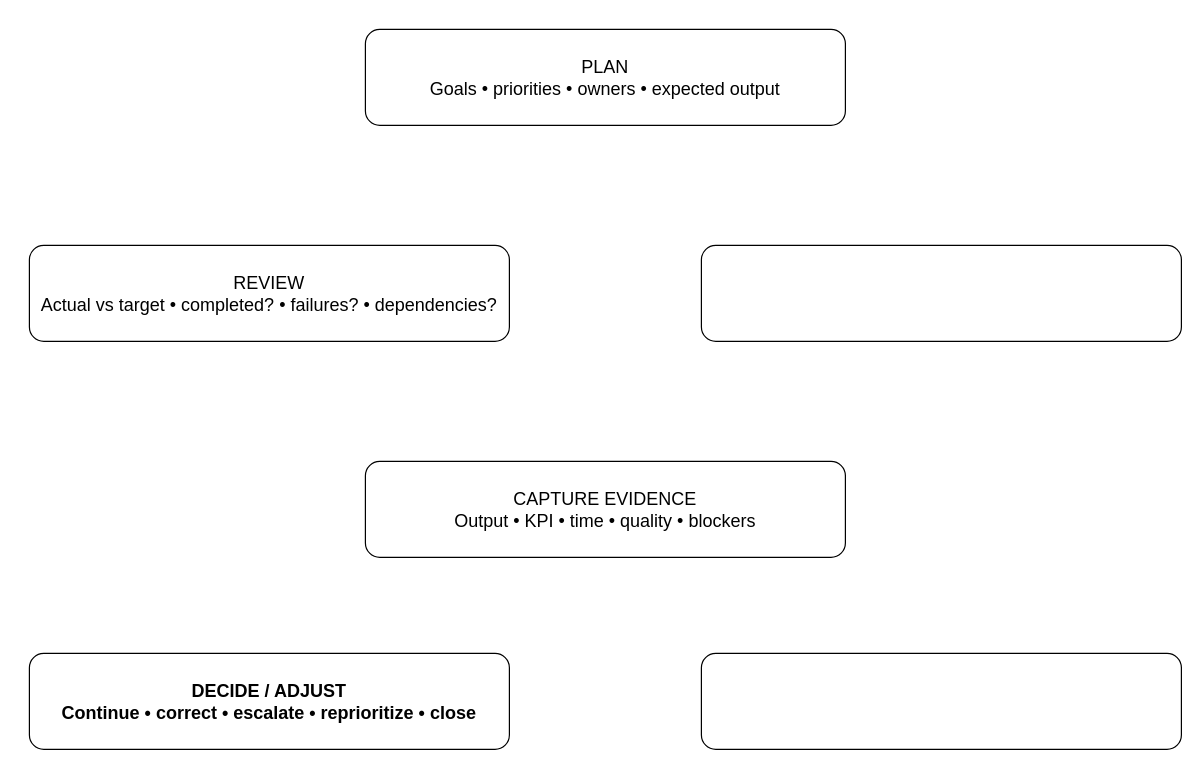
This 1202x770 diagram has some shape labels left out. The centre of each missing label's shape, as x and y in pixels:
"EXECUTE Tasks • projects • recurring work" goes at pixel 940 292.
"NEXT CYCLE Updated plan → next week/month/quarter" goes at pixel 940 700.
